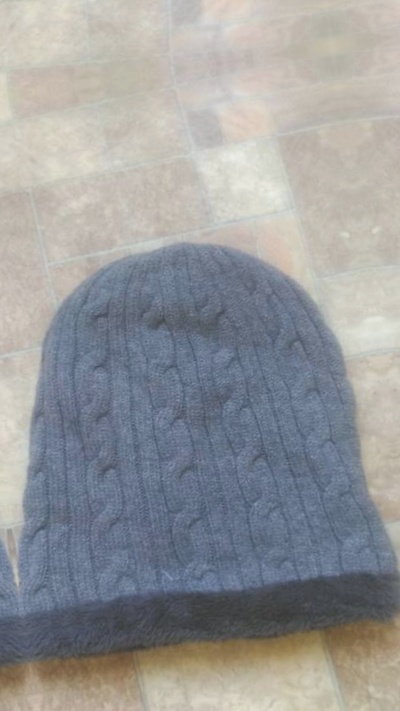Hat: (0, 160, 400, 699), (367, 98, 400, 637), (0, 217, 33, 711)
